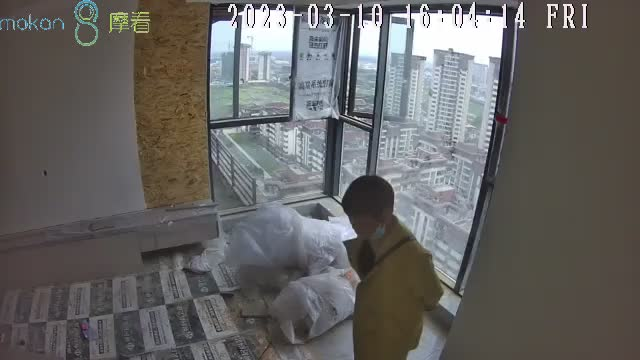people: (341, 177, 445, 360)
window: (209, 10, 510, 298)
